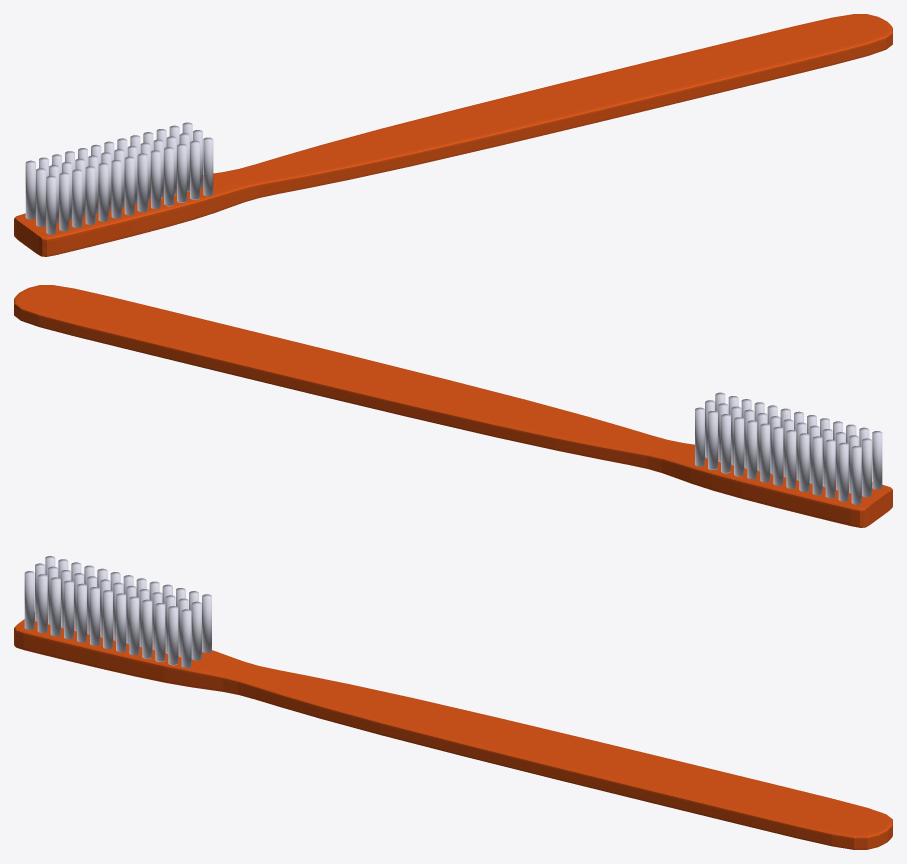
Rendered from Cepillo3.fbx.
The picture shows the model from 3 angles, top to bottom: view 1: azimuth 30°, elevation 25°; view 2: azimuth 150°, elevation 25°; view 3: azimuth 330°, elevation 25°; orthographic projection.
Parts seen in each view (by area): view 1: Cube.002, Cylinder.143, Cylinder.130, Cylinder.104; view 2: Cube.002, Cylinder.104, Cylinder.130, Cylinder.143; view 3: Cube.002, Cylinder.143, Cylinder.130, Cylinder.104.
Part boxes in pixels (box(x1,y1,x2,y2)): Cube.002: box(14, 14, 892, 256); Cylinder.143: box(46, 137, 213, 234); Cylinder.130: box(36, 130, 202, 226); Cylinder.104: box(25, 122, 192, 219); Cube.002: box(14, 285, 892, 527); Cylinder.104: box(695, 407, 861, 504); Cylinder.130: box(705, 400, 871, 497); Cylinder.143: box(715, 392, 882, 489); Cube.002: box(14, 612, 892, 849); Cylinder.143: box(24, 571, 191, 667); Cylinder.130: box(35, 563, 201, 660); Cylinder.104: box(45, 556, 211, 652).
Bounding box in the file's own units: 2629 × 216 × 200.
